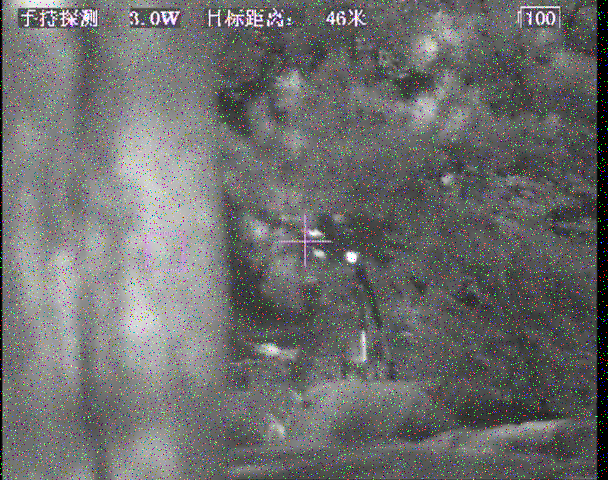my: (345, 250, 358, 265)
